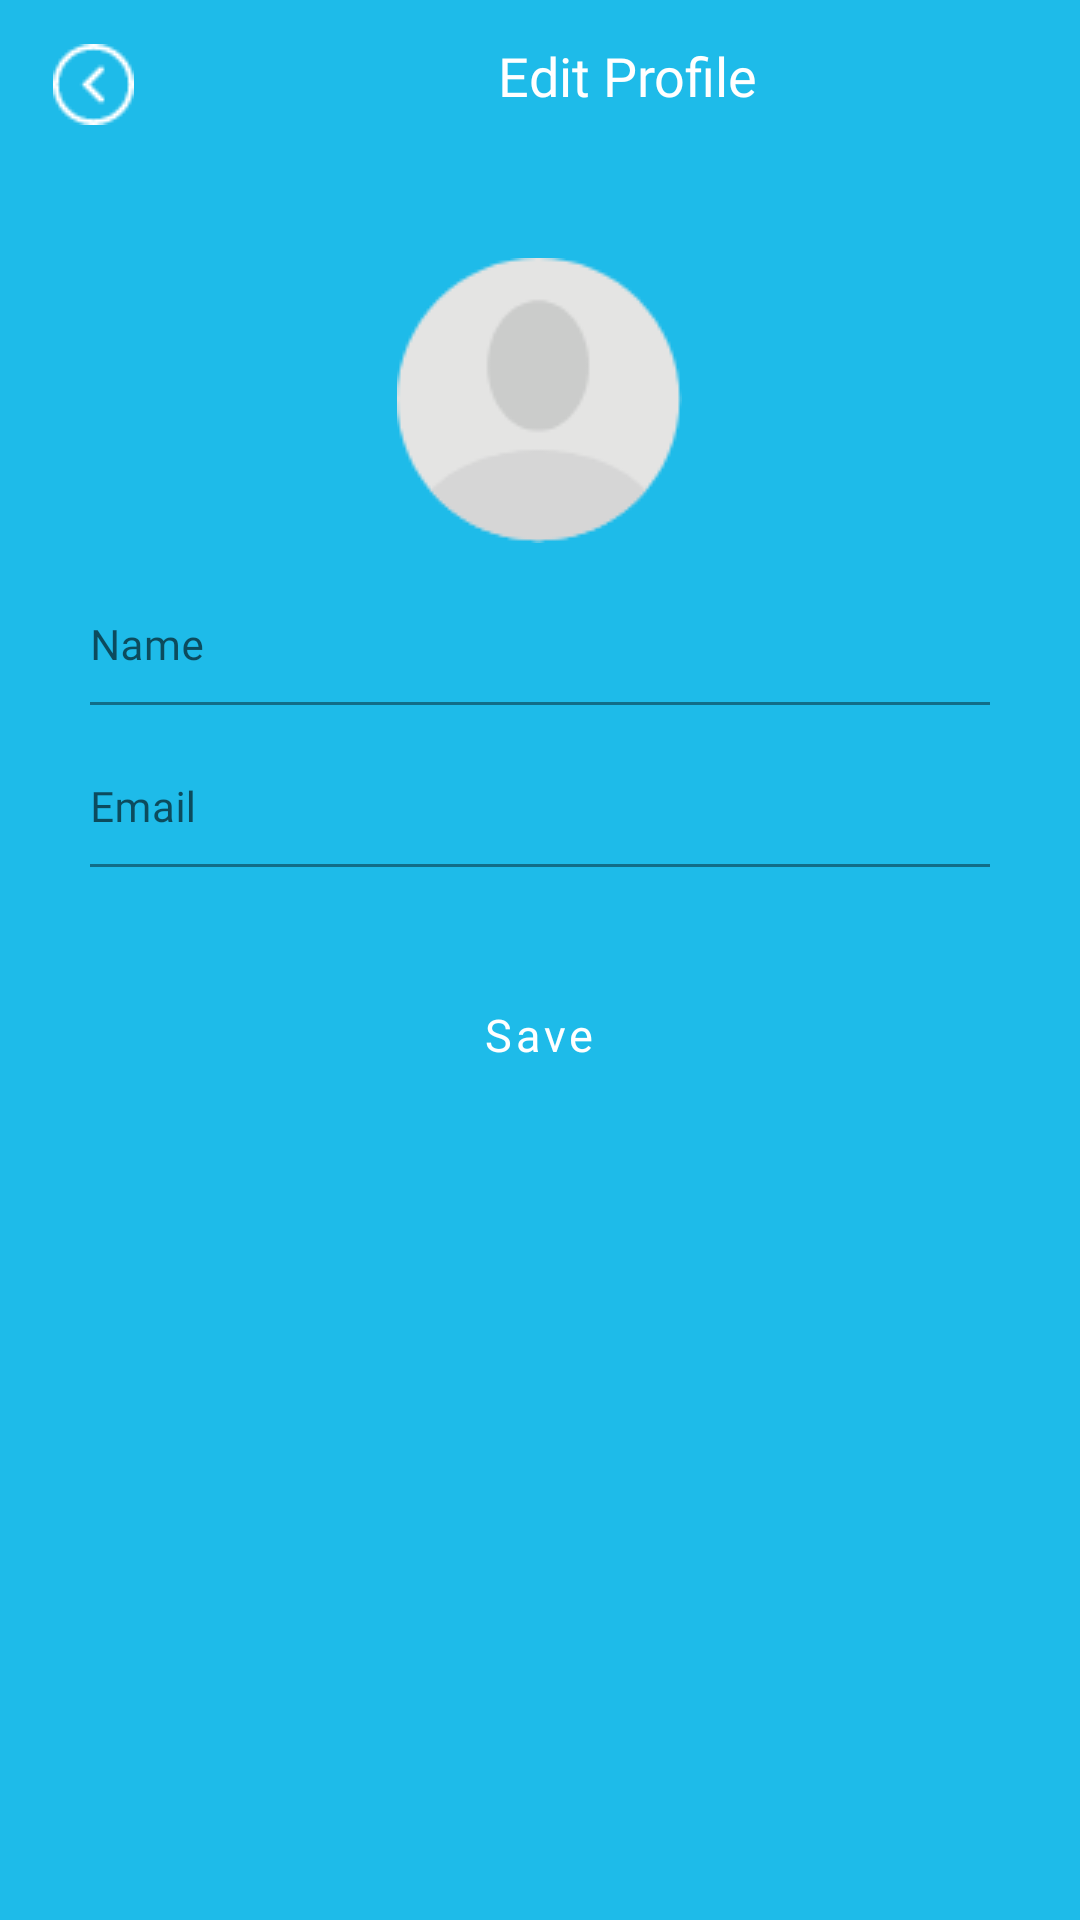

Named icons in this screenshot (1080x1920) and their centers, point (x, y):
back: point (93, 84)
